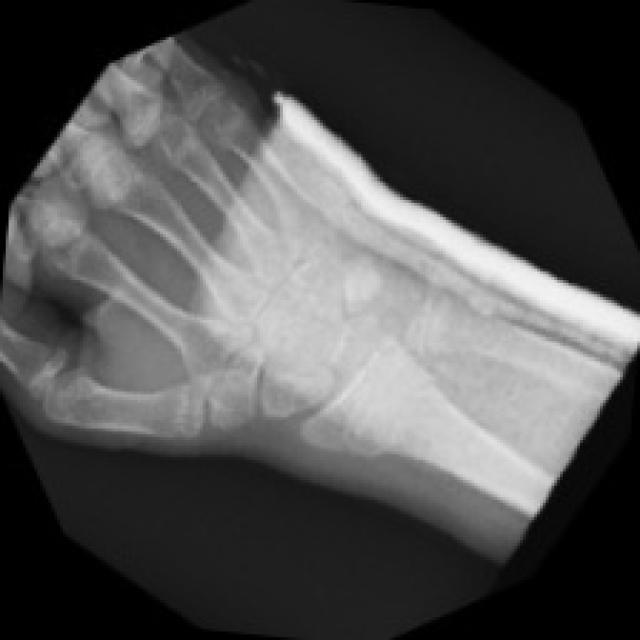fracture: (2, 342, 104, 432)
